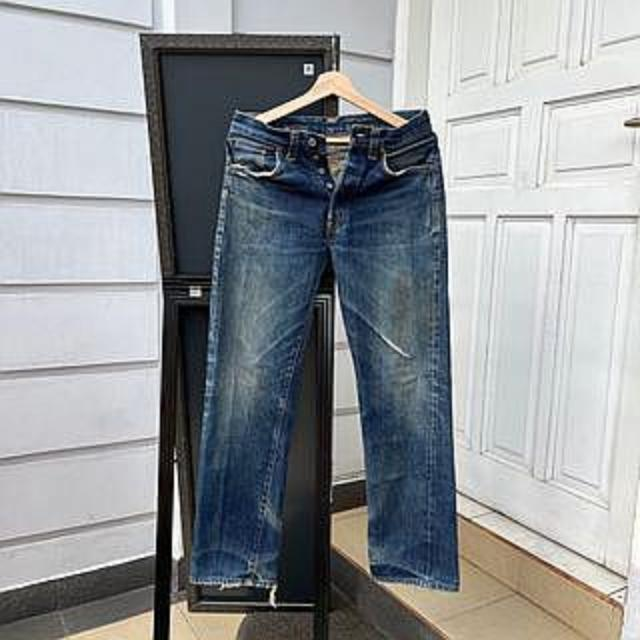TROUSER: (183, 102, 488, 613)
